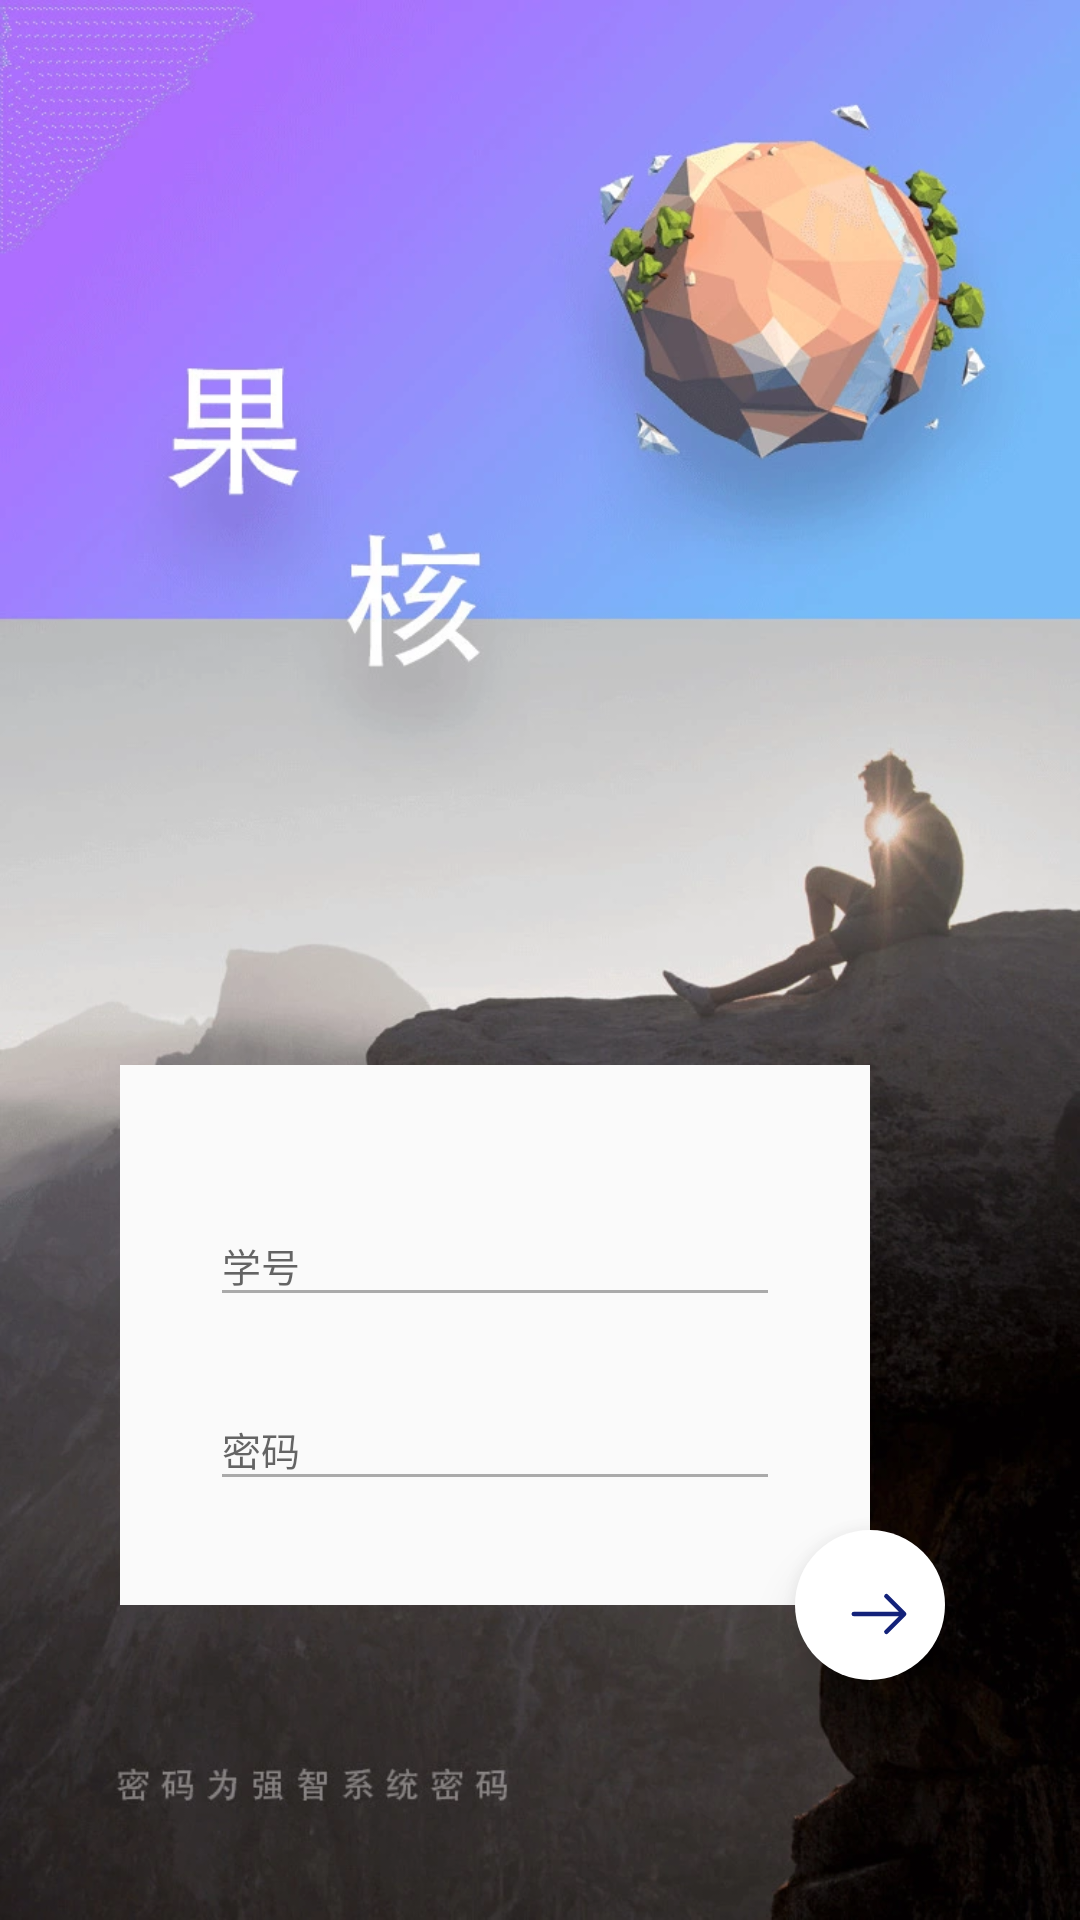

Point at icon controls on the screen. Image size 1080x1920, points as [x,y].
login: [870,1605]
